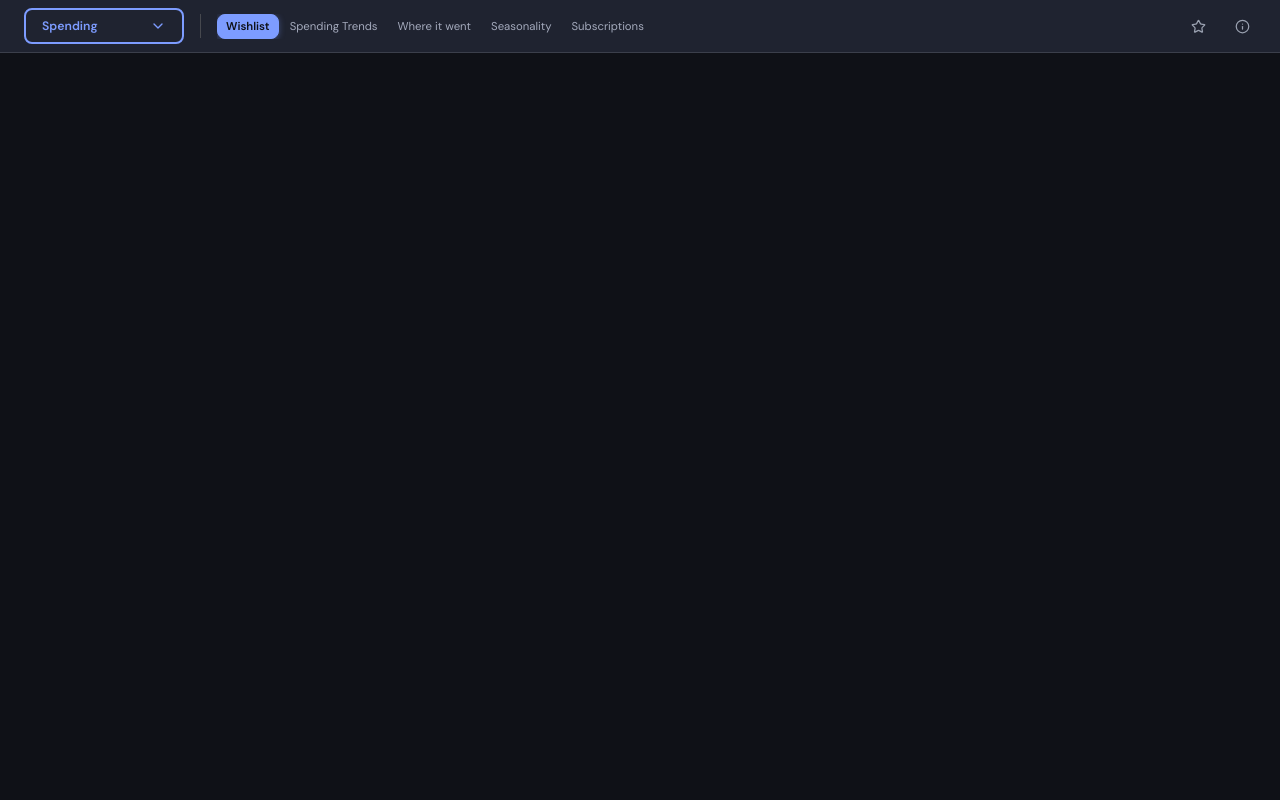
ReportsOverviewDialog › opens from the desktop nav and lists every group and report
The width and height of the screenshot is (1280, 800).
Click the button named "About these reports". click: click(1242, 26)
box: 1228,12 -> 1256,40
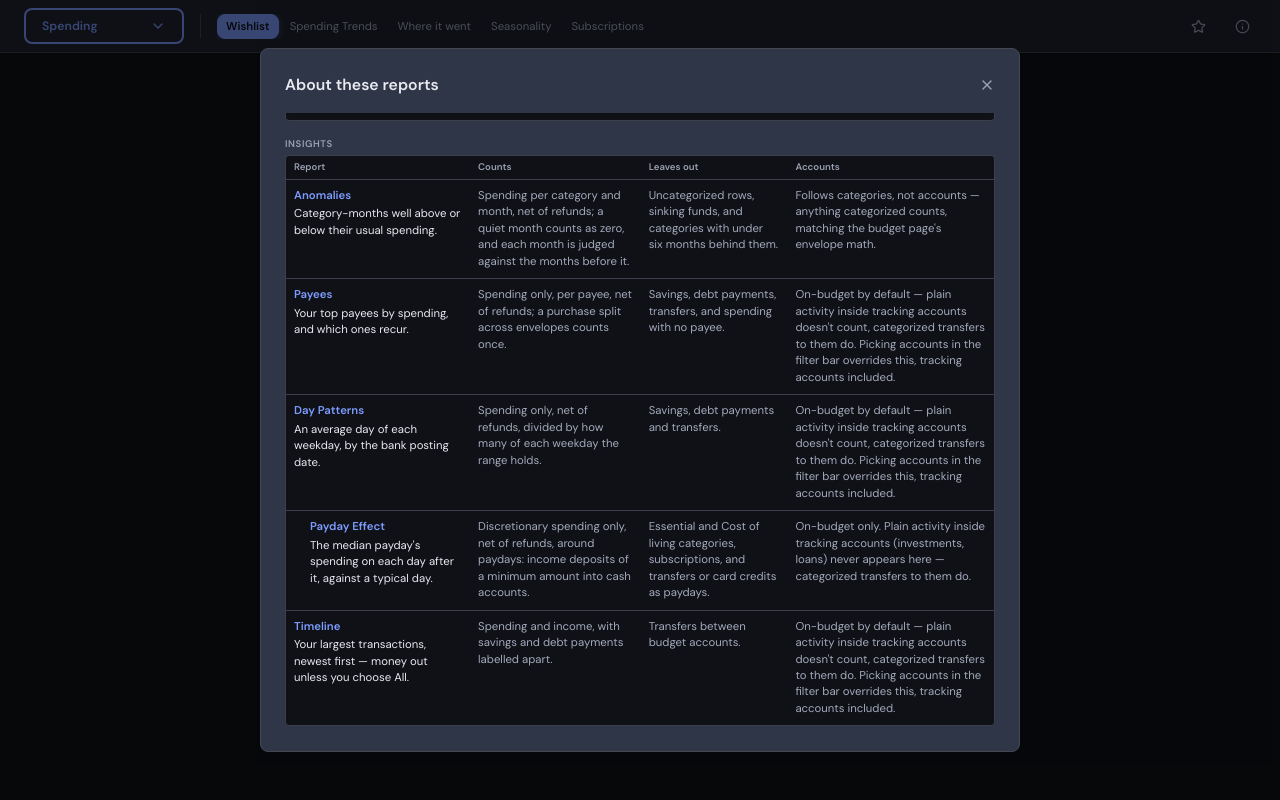
Expected: the heading "Insights" is shown, 285,137 -> 333,150
Expected: the button "Anomalies" is shown, 294,188 -> 351,204
Expected: the text "Category-months well above or below their usual spending." is shown, 294,206 -> 462,239
